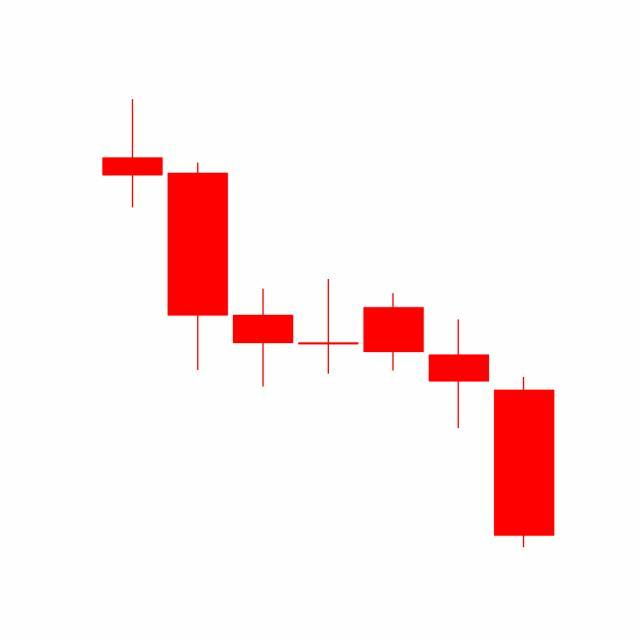Hikkake Pattern: (165, 160, 492, 432)
